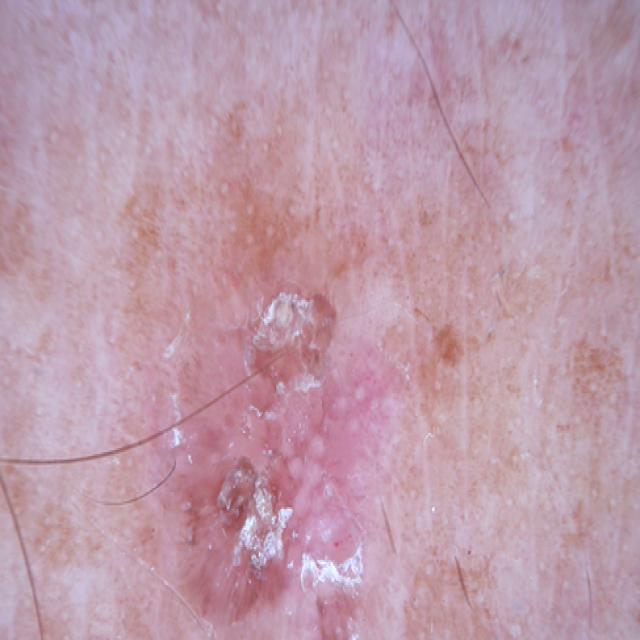Carcinoma: (146, 222, 416, 640)
